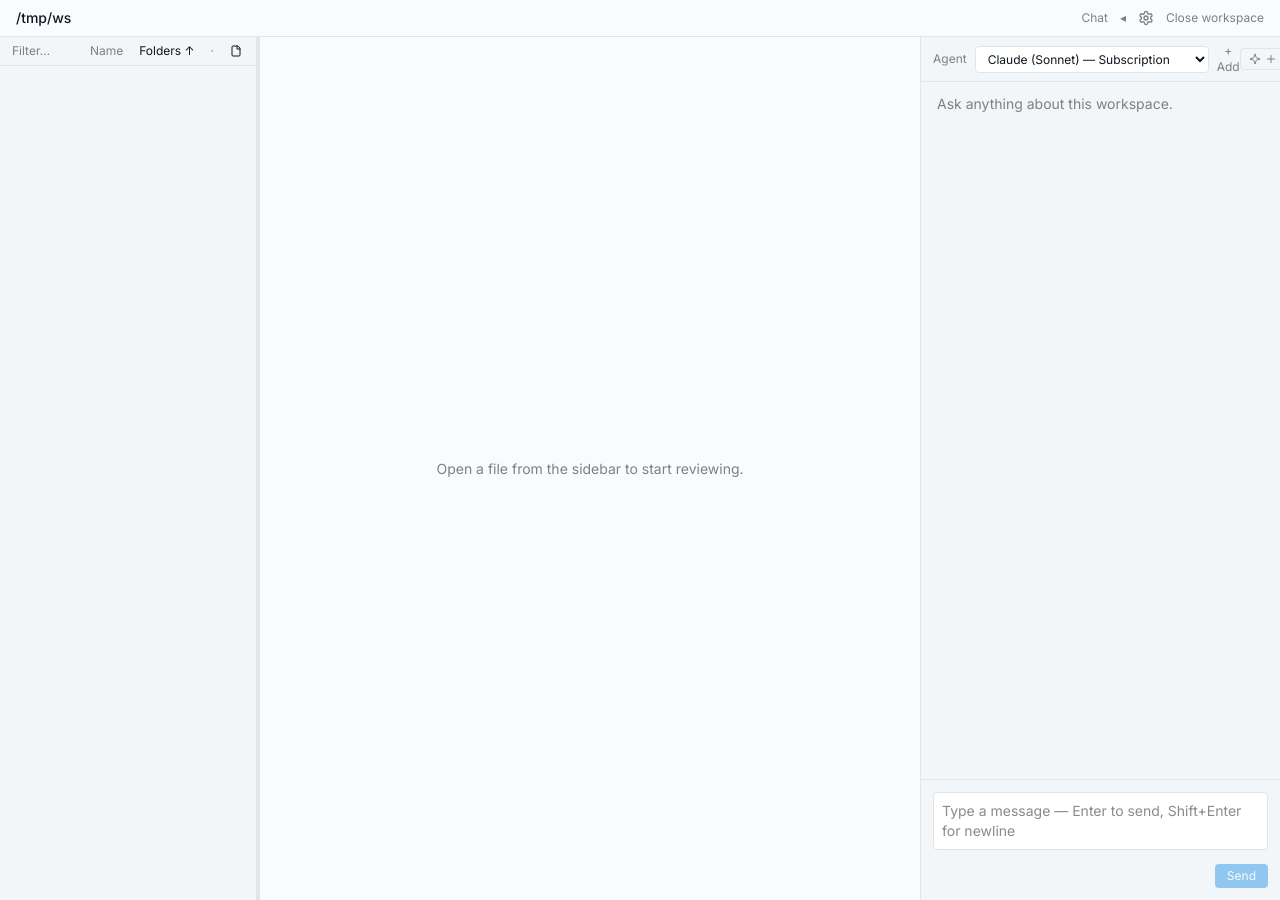
Test: screens/Main › toggles the Chat panel via the header button
This screenshot has width=1280, height=900.
Expected: the element with test id "workspace-chat-aside" is shown, [920,37,1279,899]
Click the button with test id "workspace-toggle-chat": (1095, 18) [1081,10,1108,26]
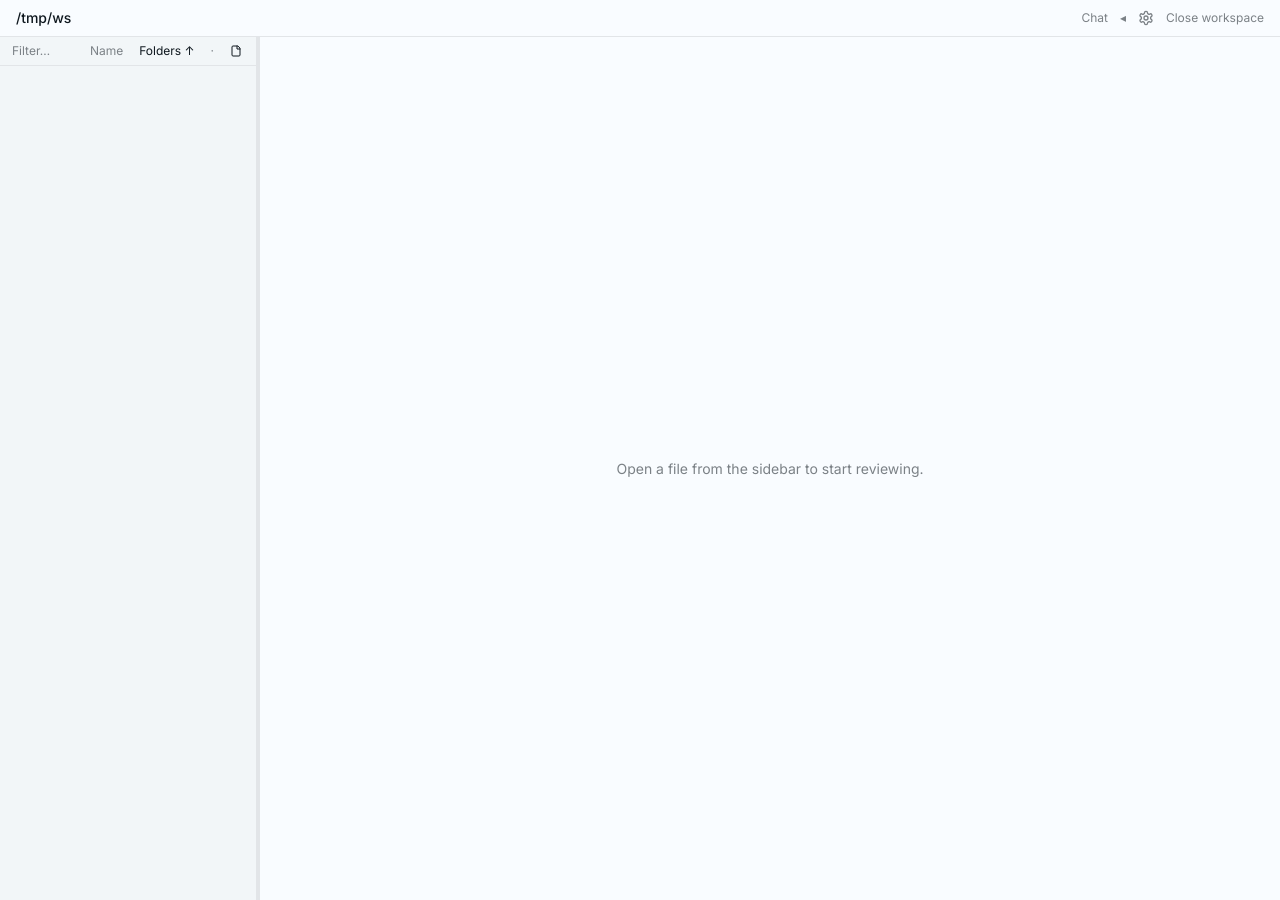
Expected: the element with test id "workspace-chat-aside" is gone
Click the button with test id "workspace-toggle-chat": (1095, 18) [1081,10,1108,26]
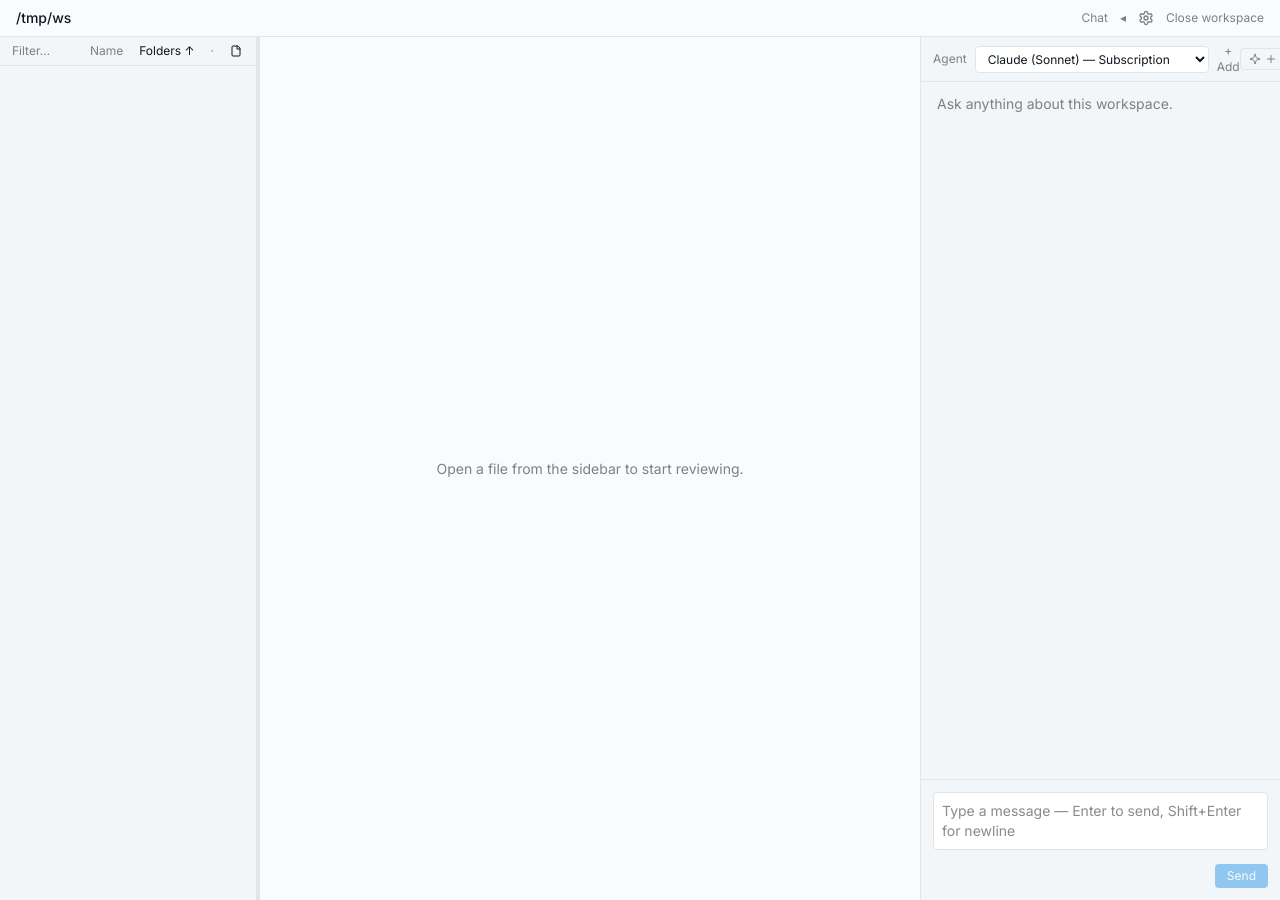
Expected: the element with test id "workspace-chat-aside" is shown, [920,37,1279,899]
